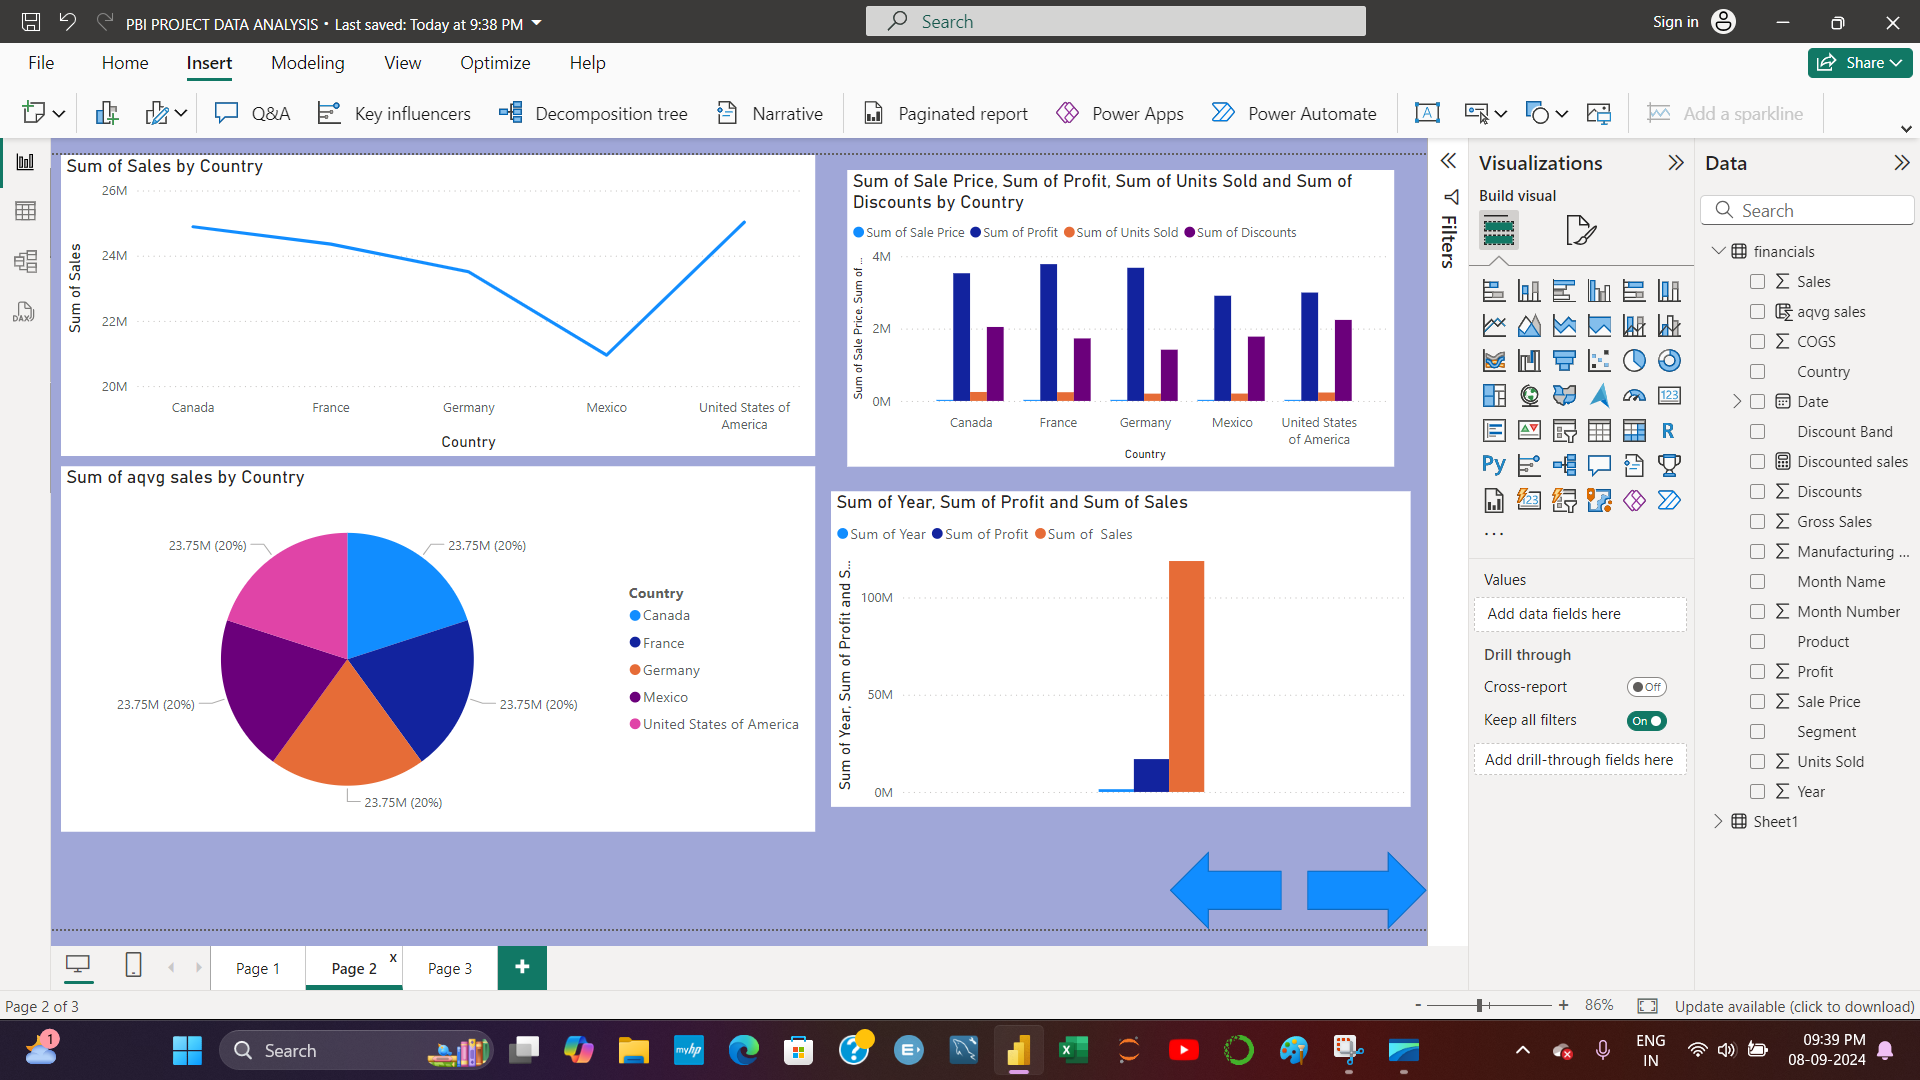

Layout of this report page (visuals, bound fields, positions):
{"tool":"powerbi","page":{"name":"Page 2","canvas":[1280,720],"ordinal":1},"visuals":[{"type":"lineChart","fields":{"Category":["financials.Country","financials.Date.Variation.Date Hierarchy.Year","financials.Date.Variation.Date Hierarchy.Quarter","financials.Date.Variation.Date Hierarchy.Month","financials.Date.Variation.Date Hierarchy.Day"],"Y":["Sum(financials. Sales)"]},"box":[9.6,0,701.2,279.9],"z":0},{"type":"pieChart","fields":{"Category":["financials.Country"],"Y":["Sum(financials.aqvg sales)"]},"box":[9.6,289.5,701.2,340.3],"z":1},{"type":"lineClusteredColumnComboChart","fields":{"Y":["Sum(financials.Sale Price)","Sum(financials.Profit)","Sum(financials.Units Sold)","Sum(financials.Discounts)"],"Category":["financials.Country"]},"box":[741,13.7,509.1,275.8],"z":2},{"type":"lineClusteredColumnComboChart","fields":{"Y":["Sum(financials.Year)","Sum(financials.Profit)","Sum(financials. Sales)"]},"box":[725.9,312.9,539.3,293.7],"z":3},{"type":"shape","box":[1169.1,647.7,111.1,72.7],"z":4},{"type":"shape","box":[1040.1,647.7,104.3,72.7],"z":5}]}

Visuals, with their boxes on the page's 1280x720 design canvas (x1, y1, x2, y2). These are canvas units, not pixel positions in the 1920x1080 screenshot, which may show the page scaled, cropped or inside an application window:
lineChart - financials.Country x financials.Date.Variation.Date Hierarchy.Year: <bbox>10, 0, 711, 280</bbox>
pieChart - financials.Country x Sum(financials.aqvg sales): <bbox>10, 290, 711, 630</bbox>
lineClusteredColumnComboChart - Sum(financials.Sale Price) x Sum(financials.Profit): <bbox>741, 14, 1250, 290</bbox>
lineClusteredColumnComboChart - Sum(financials.Year) x Sum(financials.Profit): <bbox>726, 313, 1265, 607</bbox>
shape: <bbox>1169, 648, 1280, 720</bbox>
shape: <bbox>1040, 648, 1144, 720</bbox>
